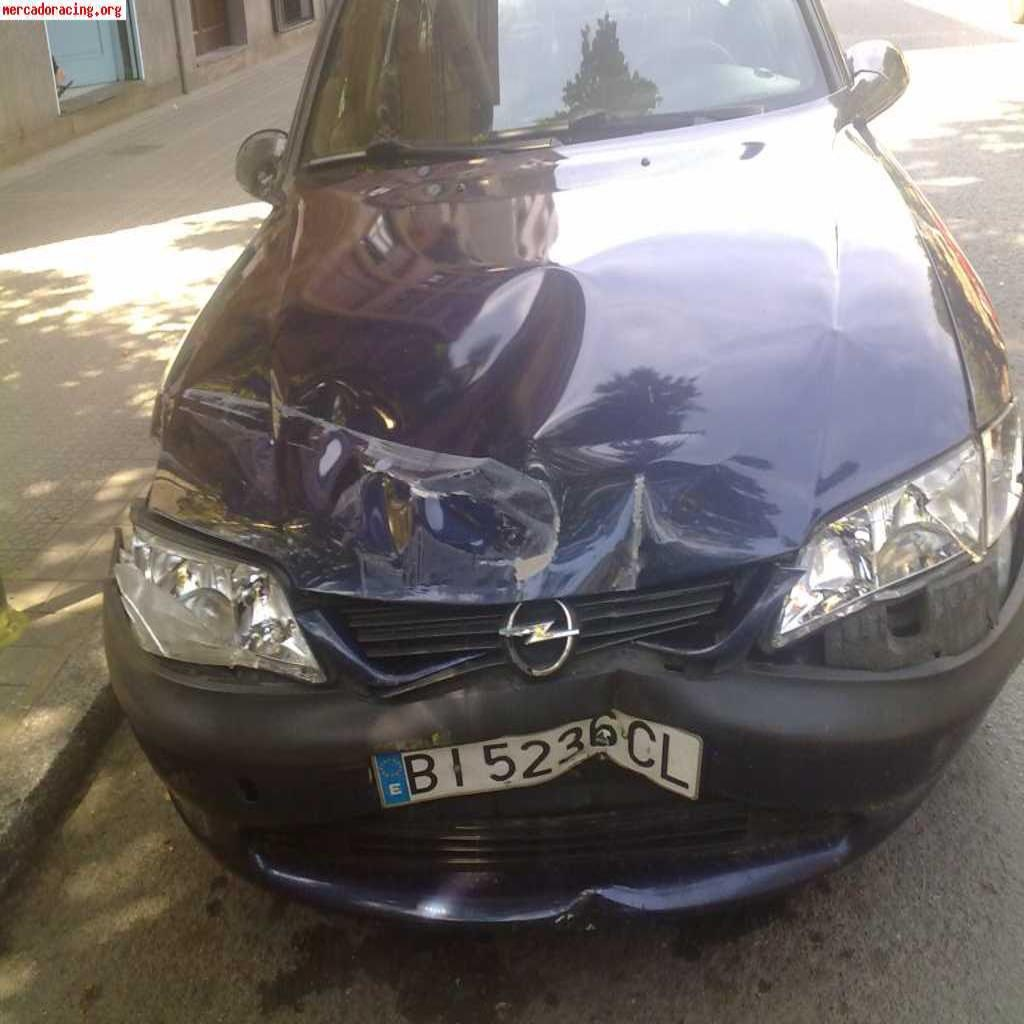Broken-glass: (116, 560, 317, 665)
Dent: (145, 301, 803, 607), (435, 660, 778, 840)
